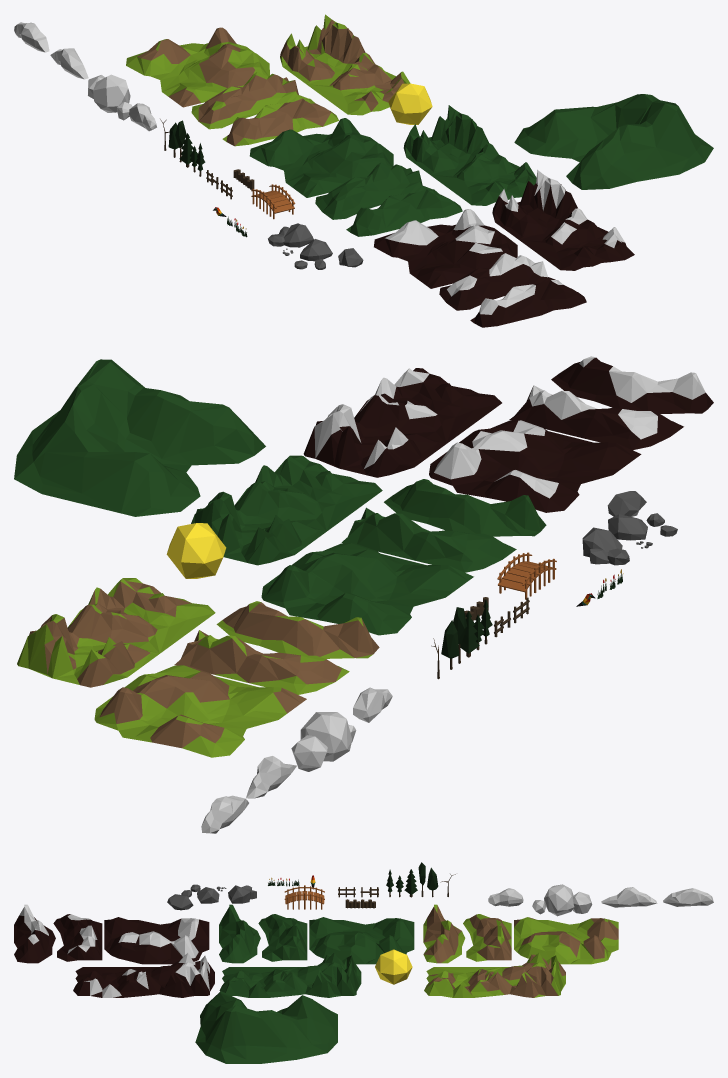
The model's file is pj01_mountain_asset.FBX.
3 views of the same model, one above another, from view 1: azimuth 30°, elevation 25°; view 2: azimuth 150°, elevation 25°; view 3: azimuth 270°, elevation 25° (orthographic). The views are drawn at different scales.
Parts seen in each view (by area): view 1: mountain_3, mountain_22 (×2), mountain_12, mountain_02, mountain_11, mountain_21, mountain_01, mountain_03, mountain_13, mountain_23, mountain_14, mountain_04 (+8 smaller); view 2: mountain_3, mountain_22 (×2), mountain_02, mountain_01, mountain_21, mountain_11, mountain_12, mountain_03, mountain_13, mountain_04, mountain_14, mountain_23 (+9 smaller); view 3: mountain_3, mountain_22 (×2), mountain_02, mountain_12, mountain_21, mountain_01, mountain_11, mountain_13, mountain_03, mountain_04, mountain_14, mountain_23 (+7 smaller).
Part boxes in pixels (x1,y1,x2,y2): mountain_3: (514,94,713,189); mountain_22 (×2): (439,170,634,310); mountain_12: (403,105,536,205); mountain_02: (280,14,410,115); mountain_11: (249,118,393,197); mountain_21: (374,209,517,288); mountain_01: (126,27,269,107); mountain_03: (191,71,307,129); mountain_13: (315,162,431,219); mountain_23: (470,280,586,327); mountain_14: (346,189,462,236); mountain_04: (222,98,338,146); mountain_3: (14,359,265,516); mountain_22 (×2): (303,368,683,477); mountain_02: (17,578,215,687); mountain_01: (94,665,306,757); mountain_21: (429,420,641,512); mountain_11: (261,543,473,635); mountain_12: (191,455,382,565); mountain_03: (174,630,349,694); mountain_13: (341,507,516,572); mountain_04: (216,601,379,658); mountain_14: (384,479,546,536); mountain_23: (551,356,713,413); mountain_3: (195,991,337,1063); mountain_22 (×2): (53,914,214,997); mountain_02: (424,953,565,997); mountain_12: (219,953,361,997); mountain_21: (104,917,209,964); mountain_01: (514,917,618,964); mountain_11: (309,917,414,964); mountain_13: (258,914,307,961); mountain_03: (463,914,511,961); mountain_04: (423,904,465,963); mountain_14: (219,904,260,963); mountain_23: (14,904,55,963).
Size of the model in its own units: 816 by 113 by 1335.
